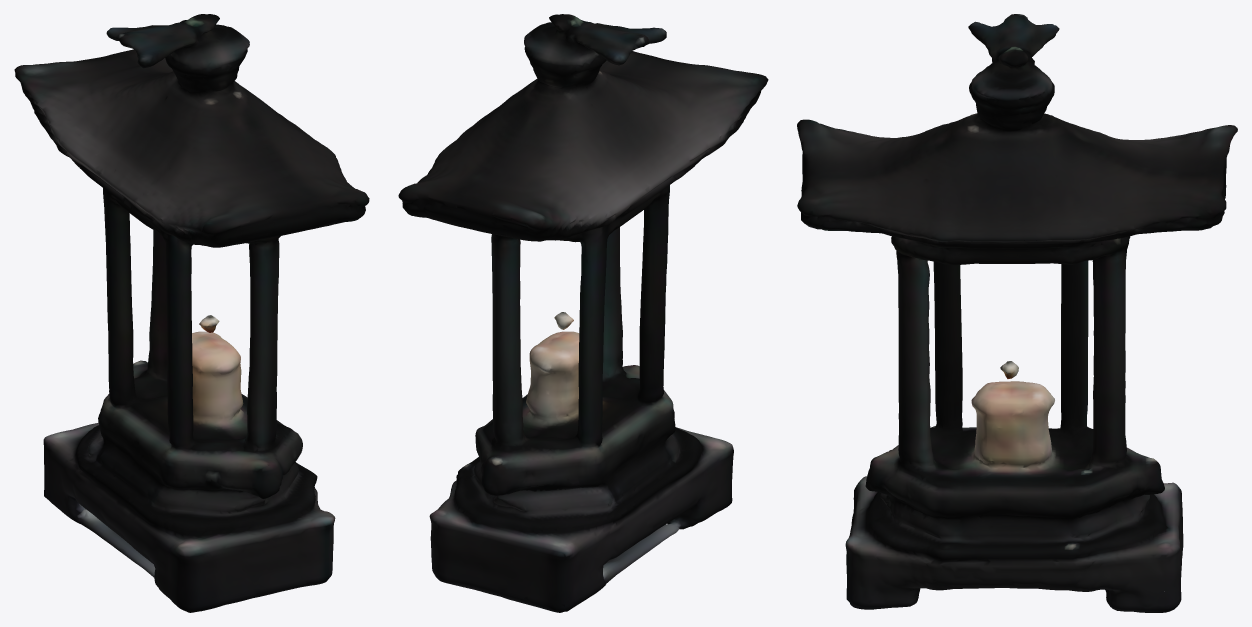
Rendered from seeded_probe.glb.
3 views of the same model, side by side, from view 1: azimuth 30°, elevation 25°; view 2: azimuth 150°, elevation 25°; view 3: azimuth 270°, elevation 25° (orthographic). The views are drawn at different scales.
Visible parts, largest first — view 1: mesh; view 2: mesh; view 3: mesh.
Boxes of the visible parts, x1,y1,x2,y2 form: mesh: (14,14,369,612); mesh: (398,14,768,612); mesh: (797,14,1237,612).
Bounding box in the file's own units: 0.5434 × 1.4 × 1.04.
